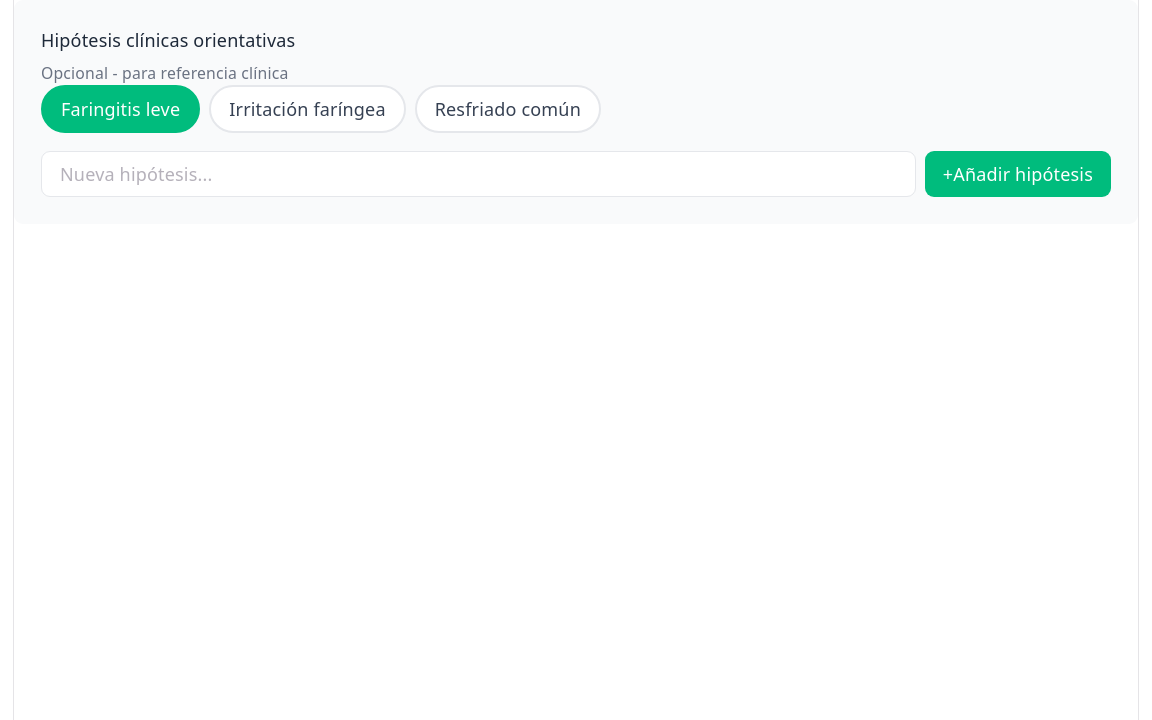
Test case: HypothesesSection › allows adding a new hypothesis that appears selected
Step 1. Type "Viral" into the field named "añadir hipótesis" → (478, 174), box [41,151,916,197]
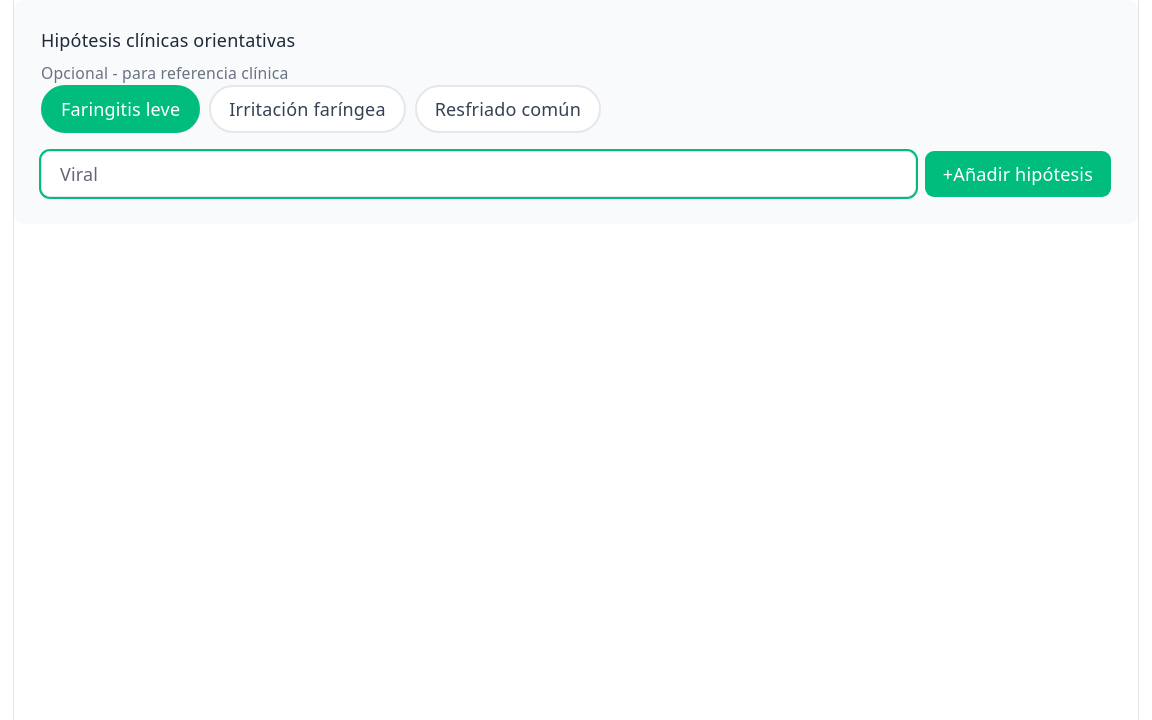
Step 2. Click the button "+Añadir hipótesis" → (1018, 174), box [925,151,1111,197]
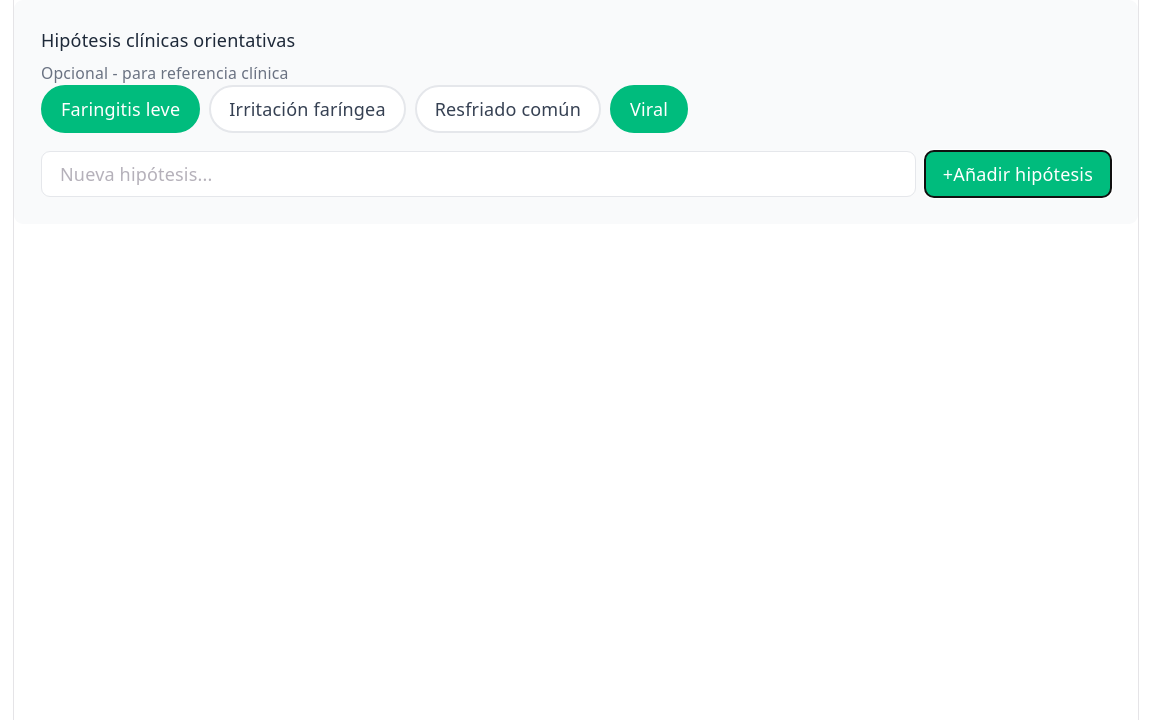
Now the button "Viral" is shown, box [610,85,688,133]
Now the field named "añadir hipótesis" is empty, box [41,151,916,197]
